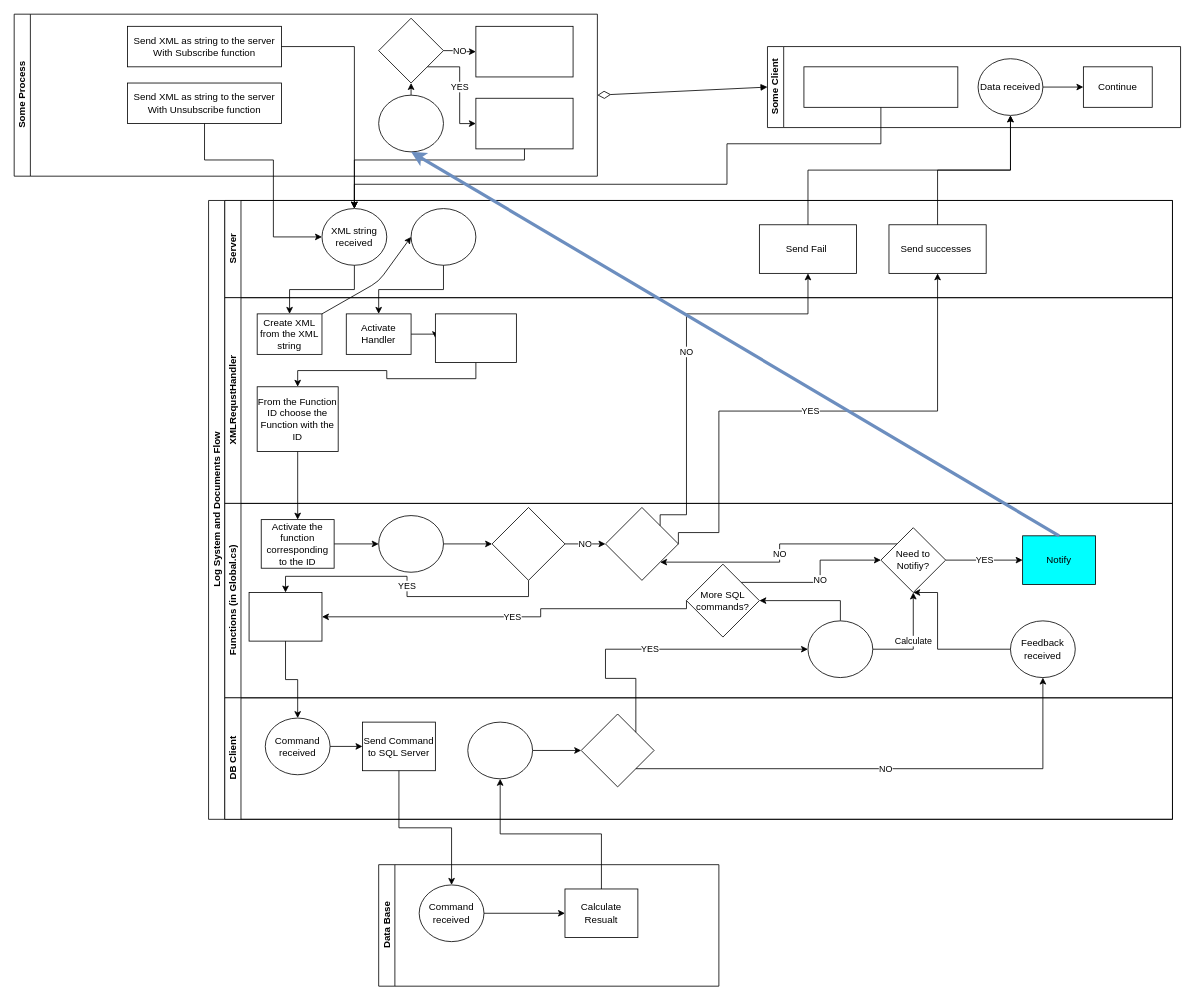
Image size: 1195x1000. Some labels were removed from this diagram. The shapes that lost their labels are listed below. From the top down, each one's centre as x and y in pixels, then its label:
[410,50]: Need document?
[524,51]: Continue process
[880,86]: Send XML as string to the server
[410,123]: Notification received
[524,123]: Send XML with GetDocument fanction
[443,236]: XML received
[475,337]: Convert the parameters from the XML to a list
[410,543]: Parameters received
[528,543]: Need DataBase?
[641,543]: Function successes?
[285,616]: Create SQL Command
[840,649]: DataTable received
[500,750]: Result received
[617,750]: Select command?
